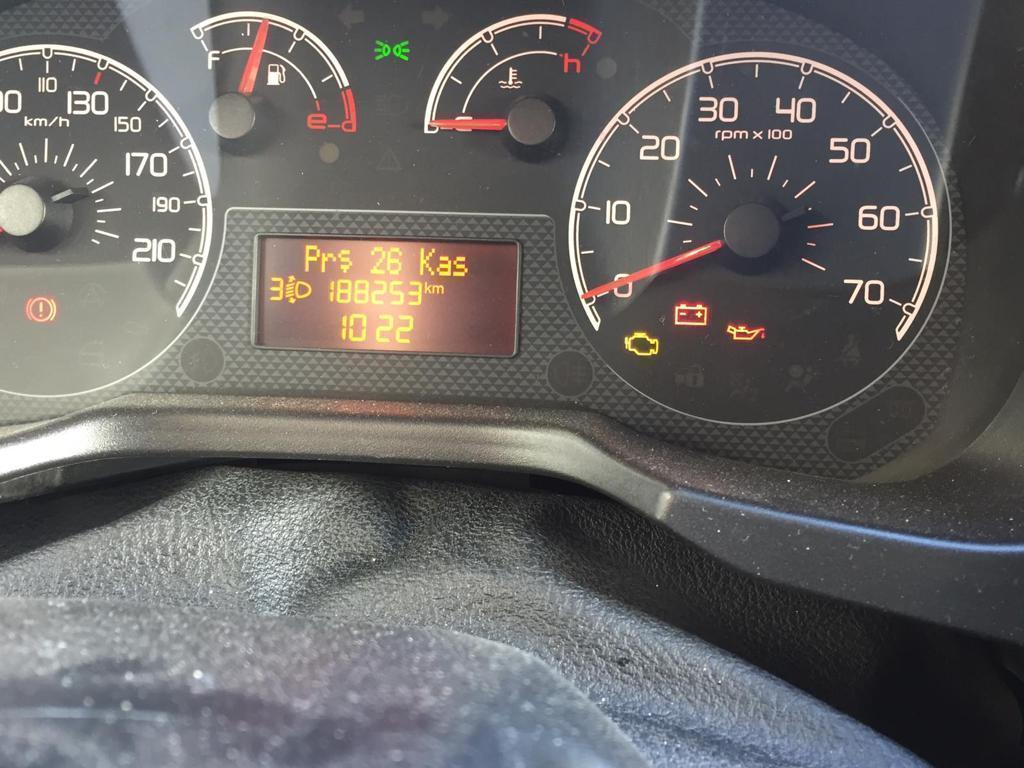0: (348, 313, 366, 342)
1: (340, 314, 347, 340), (328, 279, 335, 302)
2: (395, 314, 413, 343), (375, 314, 393, 342), (369, 246, 385, 274), (371, 280, 386, 304)
3: (407, 280, 422, 305), (269, 276, 284, 301)
5: (388, 280, 404, 305)
6: (386, 247, 402, 274)
8: (335, 278, 352, 304), (352, 279, 369, 304)
X: (419, 247, 435, 276), (304, 244, 320, 273), (337, 249, 352, 272), (452, 255, 468, 276), (436, 255, 451, 276), (320, 252, 335, 273), (432, 284, 444, 294), (423, 281, 432, 294)
odometer: (249, 232, 522, 360)
